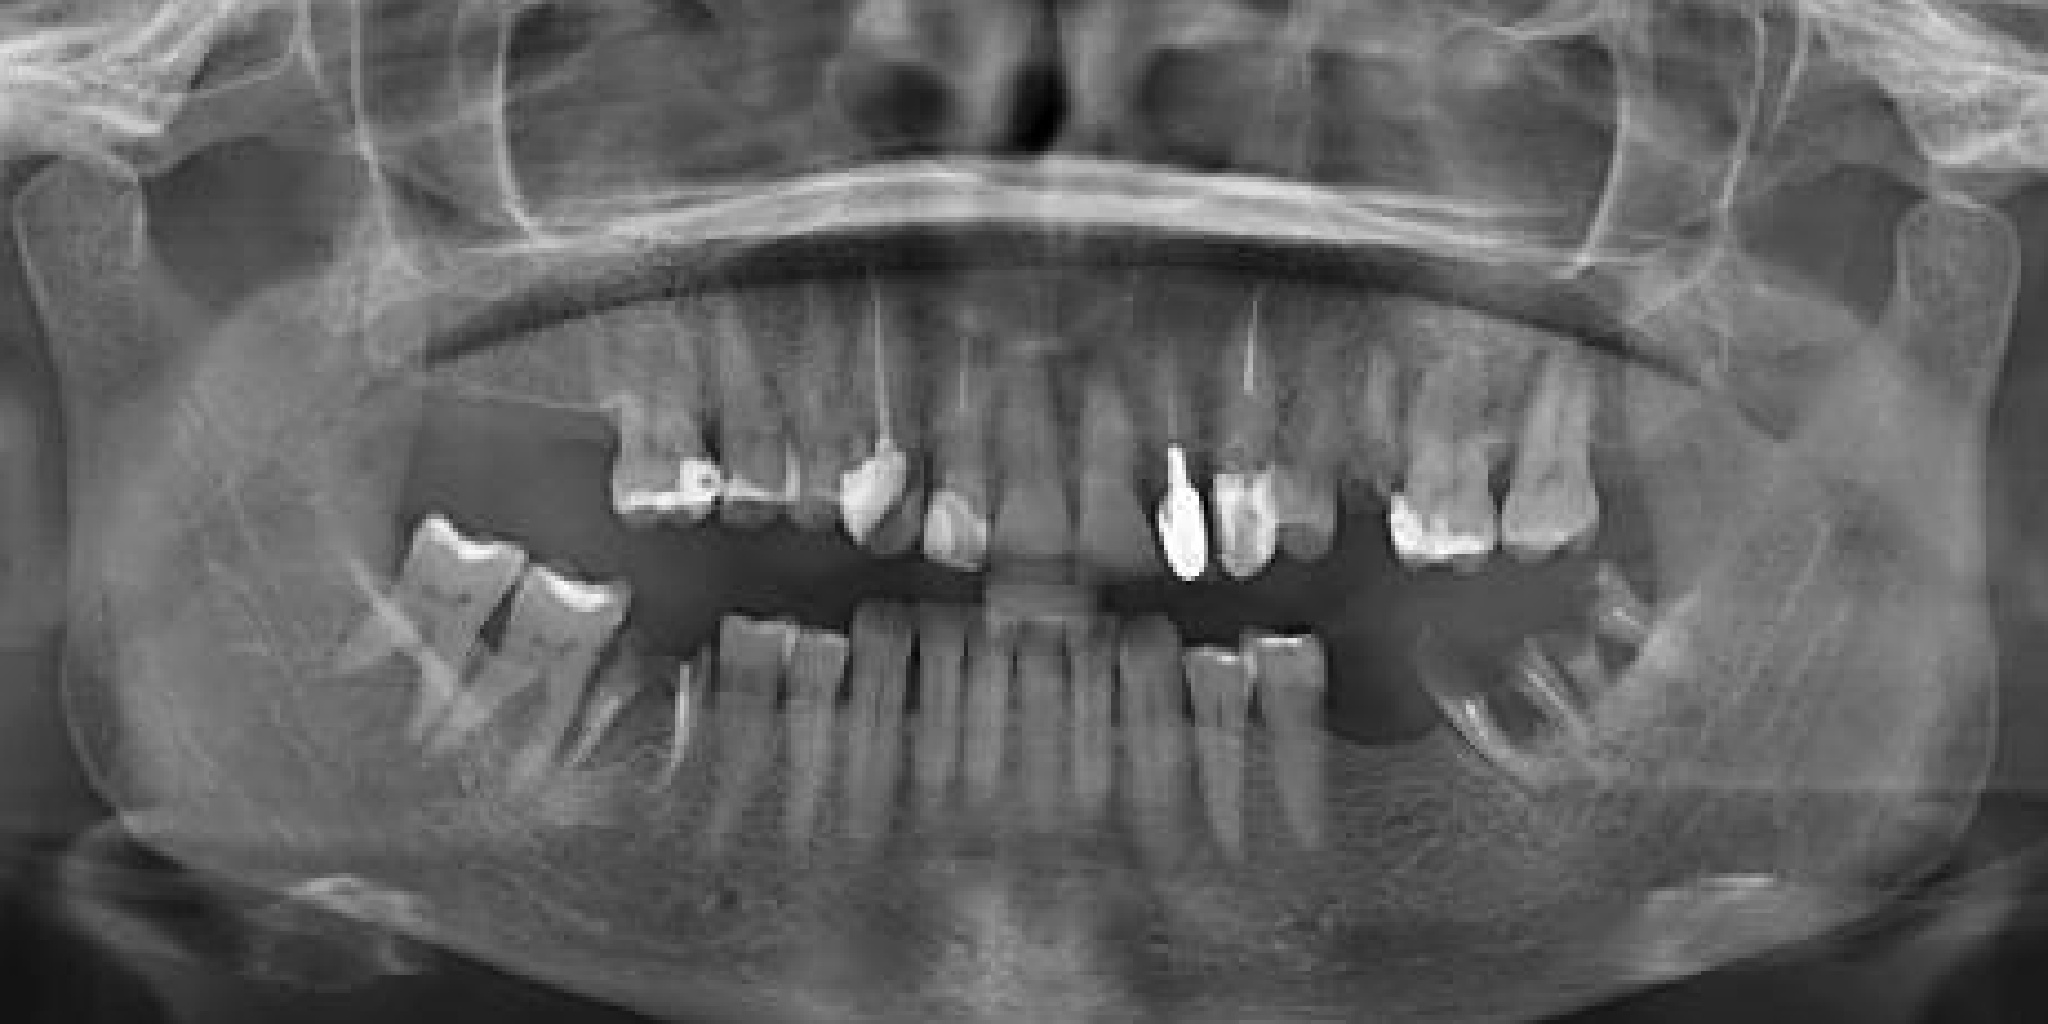Tooth: (304, 472, 720, 903), (435, 522, 812, 969), (1304, 457, 1681, 903), (590, 530, 882, 967), (601, 171, 880, 603), (1486, 402, 1759, 833), (296, 438, 556, 863), (675, 542, 929, 967), (1186, 206, 1439, 630), (1049, 229, 1296, 650), (858, 519, 1105, 939), (808, 522, 1055, 943), (758, 189, 999, 609), (985, 239, 1226, 658), (701, 182, 942, 600), (1038, 556, 1273, 972), (1255, 183, 1489, 600), (1132, 205, 1366, 620), (752, 542, 986, 957), (910, 229, 1144, 644), (931, 539, 1152, 950), (848, 230, 1068, 640), (984, 539, 1191, 942)
